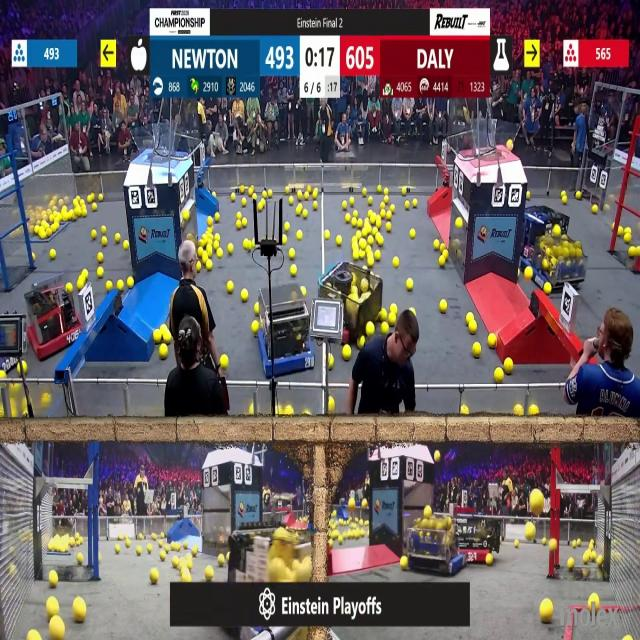ball_airborne: (530, 490, 542, 513), (525, 523, 535, 540), (432, 449, 440, 461), (505, 140, 512, 150)
ball_ground: (51, 619, 66, 640), (540, 600, 552, 622), (74, 601, 85, 624), (46, 598, 58, 617), (48, 570, 57, 586), (180, 569, 190, 582), (343, 346, 352, 360), (503, 358, 512, 372), (494, 368, 504, 380), (472, 343, 480, 358), (150, 568, 158, 583), (488, 335, 496, 349), (365, 322, 373, 336), (154, 332, 162, 345), (515, 407, 524, 418), (161, 345, 168, 359), (206, 566, 213, 580), (327, 397, 334, 411), (241, 289, 249, 301), (164, 332, 172, 344), (486, 555, 494, 567), (543, 282, 551, 294), (388, 314, 396, 326), (400, 557, 407, 570), (220, 355, 227, 368), (525, 268, 532, 281), (28, 631, 38, 640), (550, 539, 558, 550), (76, 279, 84, 290), (226, 281, 233, 293), (407, 279, 414, 291), (106, 280, 113, 292), (253, 304, 260, 316), (358, 337, 365, 349), (22, 361, 29, 373), (182, 209, 189, 221), (530, 407, 538, 417), (628, 247, 636, 257), (460, 408, 468, 418), (252, 321, 258, 334), (98, 268, 105, 279), (382, 322, 389, 333), (468, 322, 475, 333), (218, 555, 225, 566), (381, 310, 388, 321), (442, 301, 448, 313), (378, 235, 384, 247), (358, 240, 366, 249), (285, 408, 293, 417), (466, 312, 473, 322), (440, 256, 447, 266), (243, 240, 250, 250), (257, 202, 264, 212), (366, 236, 373, 246), (16, 362, 23, 372), (172, 540, 179, 550), (358, 250, 365, 260), (290, 266, 296, 277), (392, 256, 398, 267), (117, 280, 123, 291), (173, 557, 179, 568), (584, 554, 590, 565), (98, 253, 105, 262), (390, 305, 397, 314), (50, 249, 56, 259), (128, 278, 134, 288), (289, 249, 295, 259), (433, 240, 439, 250), (227, 244, 233, 254), (206, 262, 212, 272), (337, 236, 343, 246), (114, 234, 120, 244), (568, 559, 574, 569), (217, 248, 223, 258), (67, 282, 73, 292), (376, 250, 382, 260), (353, 250, 359, 260), (625, 234, 631, 244), (456, 218, 462, 228), (77, 554, 83, 564), (206, 248, 212, 258), (358, 218, 364, 228), (198, 246, 204, 256), (377, 217, 383, 227), (299, 286, 305, 296), (352, 239, 358, 249), (213, 242, 220, 250), (589, 600, 594, 611), (411, 230, 417, 239), (122, 241, 128, 250), (81, 270, 87, 279), (114, 543, 120, 552), (161, 552, 167, 561), (102, 238, 108, 247), (242, 218, 248, 227), (618, 226, 624, 235), (356, 231, 362, 240), (191, 545, 197, 554), (40, 231, 46, 240), (75, 208, 81, 217), (165, 540, 171, 549), (187, 560, 192, 570), (249, 407, 254, 417), (386, 222, 392, 230), (284, 222, 290, 230), (237, 220, 243, 228), (443, 250, 449, 258), (214, 234, 220, 242), (214, 213, 220, 221), (562, 197, 568, 205), (403, 202, 409, 210), (592, 594, 598, 602), (384, 212, 390, 220), (296, 191, 302, 199), (626, 226, 632, 234), (350, 198, 356, 206), (127, 539, 133, 547), (160, 539, 166, 547), (187, 234, 193, 242), (603, 205, 609, 213), (284, 186, 290, 194), (195, 264, 200, 273), (147, 543, 152, 552), (93, 231, 98, 240), (367, 257, 372, 266), (346, 214, 351, 223), (282, 236, 287, 245), (313, 202, 318, 211), (137, 545, 142, 554), (0, 369, 5, 378), (304, 209, 309, 218), (295, 207, 300, 216), (208, 216, 213, 225), (351, 218, 356, 227), (313, 189, 318, 198), (81, 208, 86, 217), (328, 357, 332, 368), (596, 599, 600, 610), (237, 212, 243, 219), (390, 205, 396, 212), (352, 210, 358, 217), (384, 195, 390, 202), (440, 243, 446, 250), (202, 234, 208, 241), (324, 232, 329, 240), (593, 206, 598, 214), (575, 190, 580, 198), (413, 200, 418, 208), (269, 189, 274, 197), (288, 198, 293, 206), (232, 192, 237, 200), (305, 191, 310, 199), (369, 216, 374, 224), (343, 202, 348, 210), (207, 242, 212, 250), (381, 202, 386, 210), (304, 412, 310, 418), (99, 193, 104, 200), (252, 193, 257, 200), (183, 540, 188, 547), (527, 191, 532, 198), (139, 533, 144, 540), (151, 533, 156, 540), (212, 190, 217, 197), (296, 232, 300, 240), (100, 224, 104, 232), (242, 200, 246, 208), (94, 204, 98, 212), (367, 198, 371, 206), (340, 536, 344, 544), (625, 636, 632, 640), (516, 540, 520, 547), (367, 210, 371, 217), (401, 188, 405, 195), (572, 540, 576, 547), (384, 188, 388, 195), (362, 188, 366, 195), (33, 252, 36, 260)
goal: (466, 124, 523, 160), (130, 130, 188, 160)
robot_blue: (523, 218, 588, 302), (261, 291, 315, 378), (405, 513, 467, 578)
robot_red: (314, 264, 380, 342), (24, 284, 82, 362), (605, 511, 640, 634)
